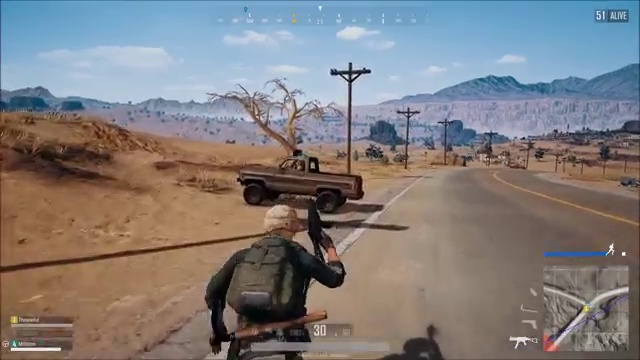Player: (178, 201, 390, 322)
